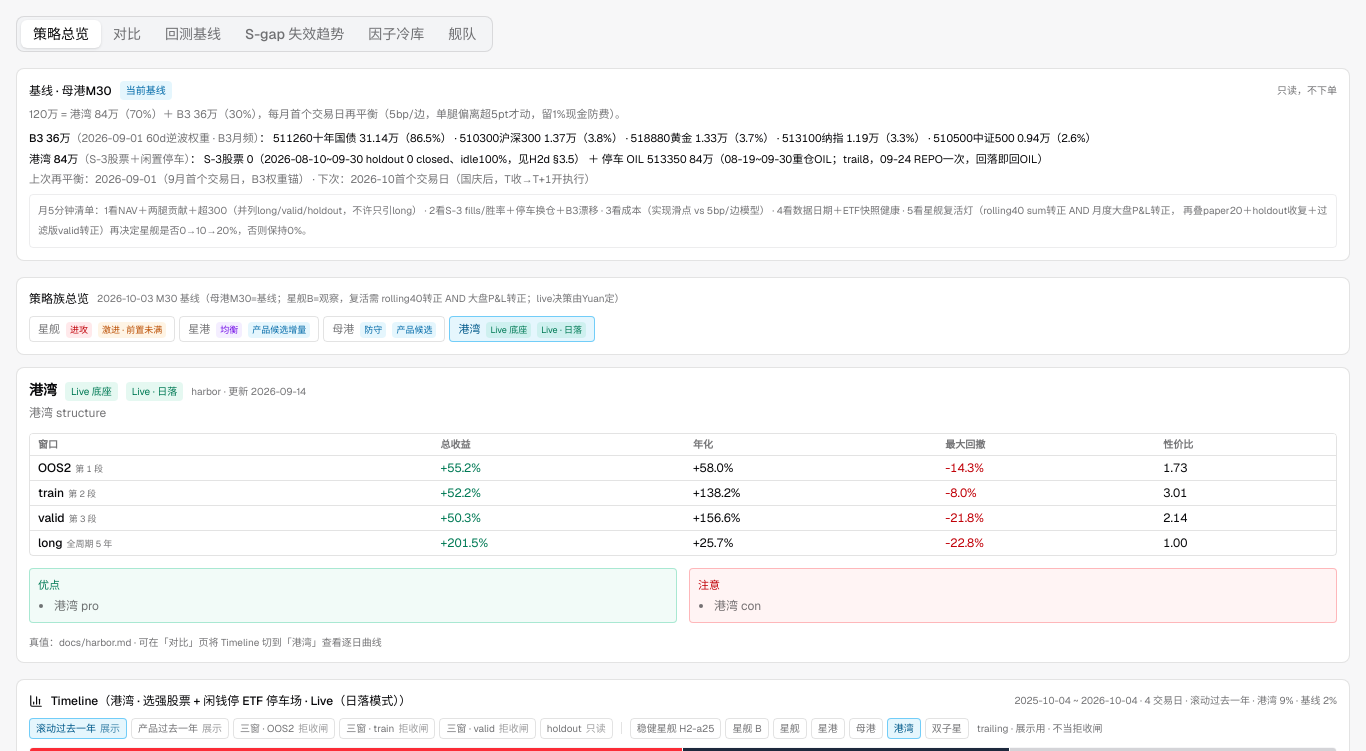
Test case: BacktestPage › paints satellite timeline blocks by slot occupancy, not as gray parking
Click the button "激进 · 前置未满".
click(102, 329)  # box top-left (29, 316), bottom-right (175, 342)
(page scrolled)
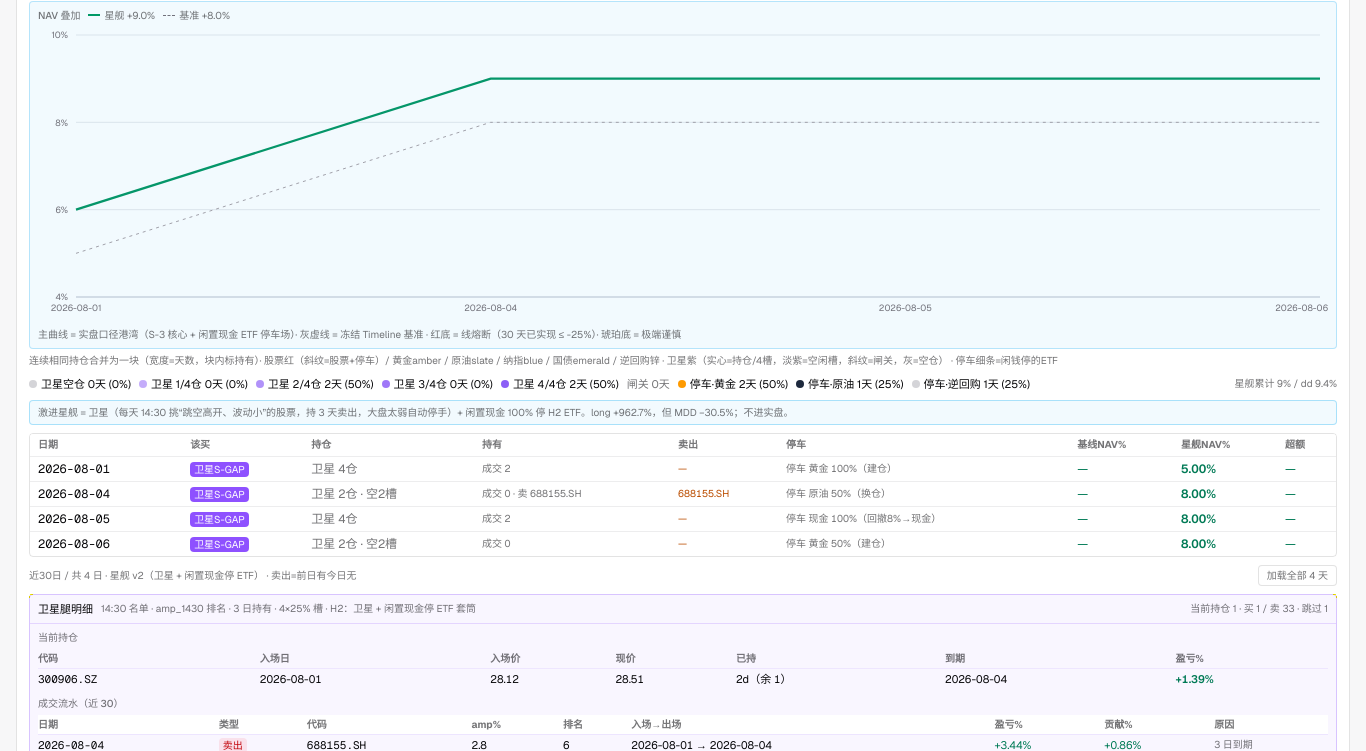
Now the text "卫星 4/4仓 2天 (50%)" is shown, box top-left (501, 376), bottom-right (619, 392)
Now the text "卫星 2/4仓 2天 (50%)" is shown, box top-left (256, 376), bottom-right (374, 392)
